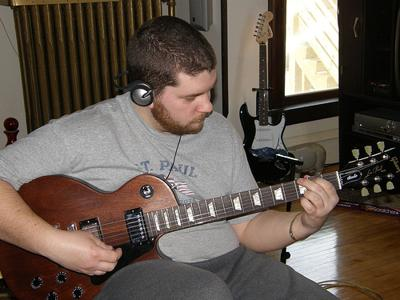person: (2, 17, 344, 300)
